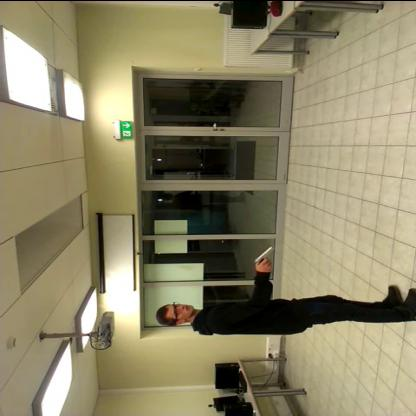Pistol: (247, 240, 284, 274)
